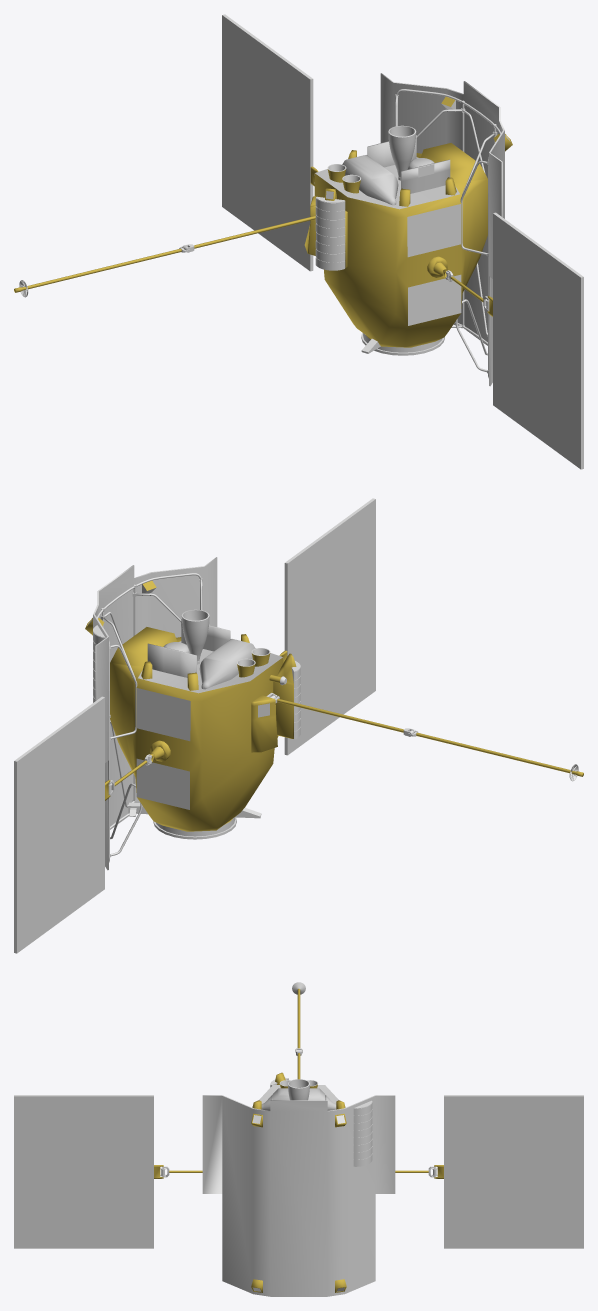
File: MESSENGER.fbx
3 renders of one model, top to bottom at view 1: azimuth 30°, elevation 25°; view 2: azimuth 150°, elevation 25°; view 3: azimuth 270°, elevation 25°, orthographic. The views are drawn at different scales.
Parts seen in each view (by area): view 1: MESSENGER; view 2: MESSENGER; view 3: MESSENGER.
Boxes of the visible parts, x1,y1,x2,y2 form: MESSENGER: (14,14,583,469); MESSENGER: (14,498,583,953); MESSENGER: (14,982,583,1296).
Size of the model in its own units: 528 by 264 by 696.
